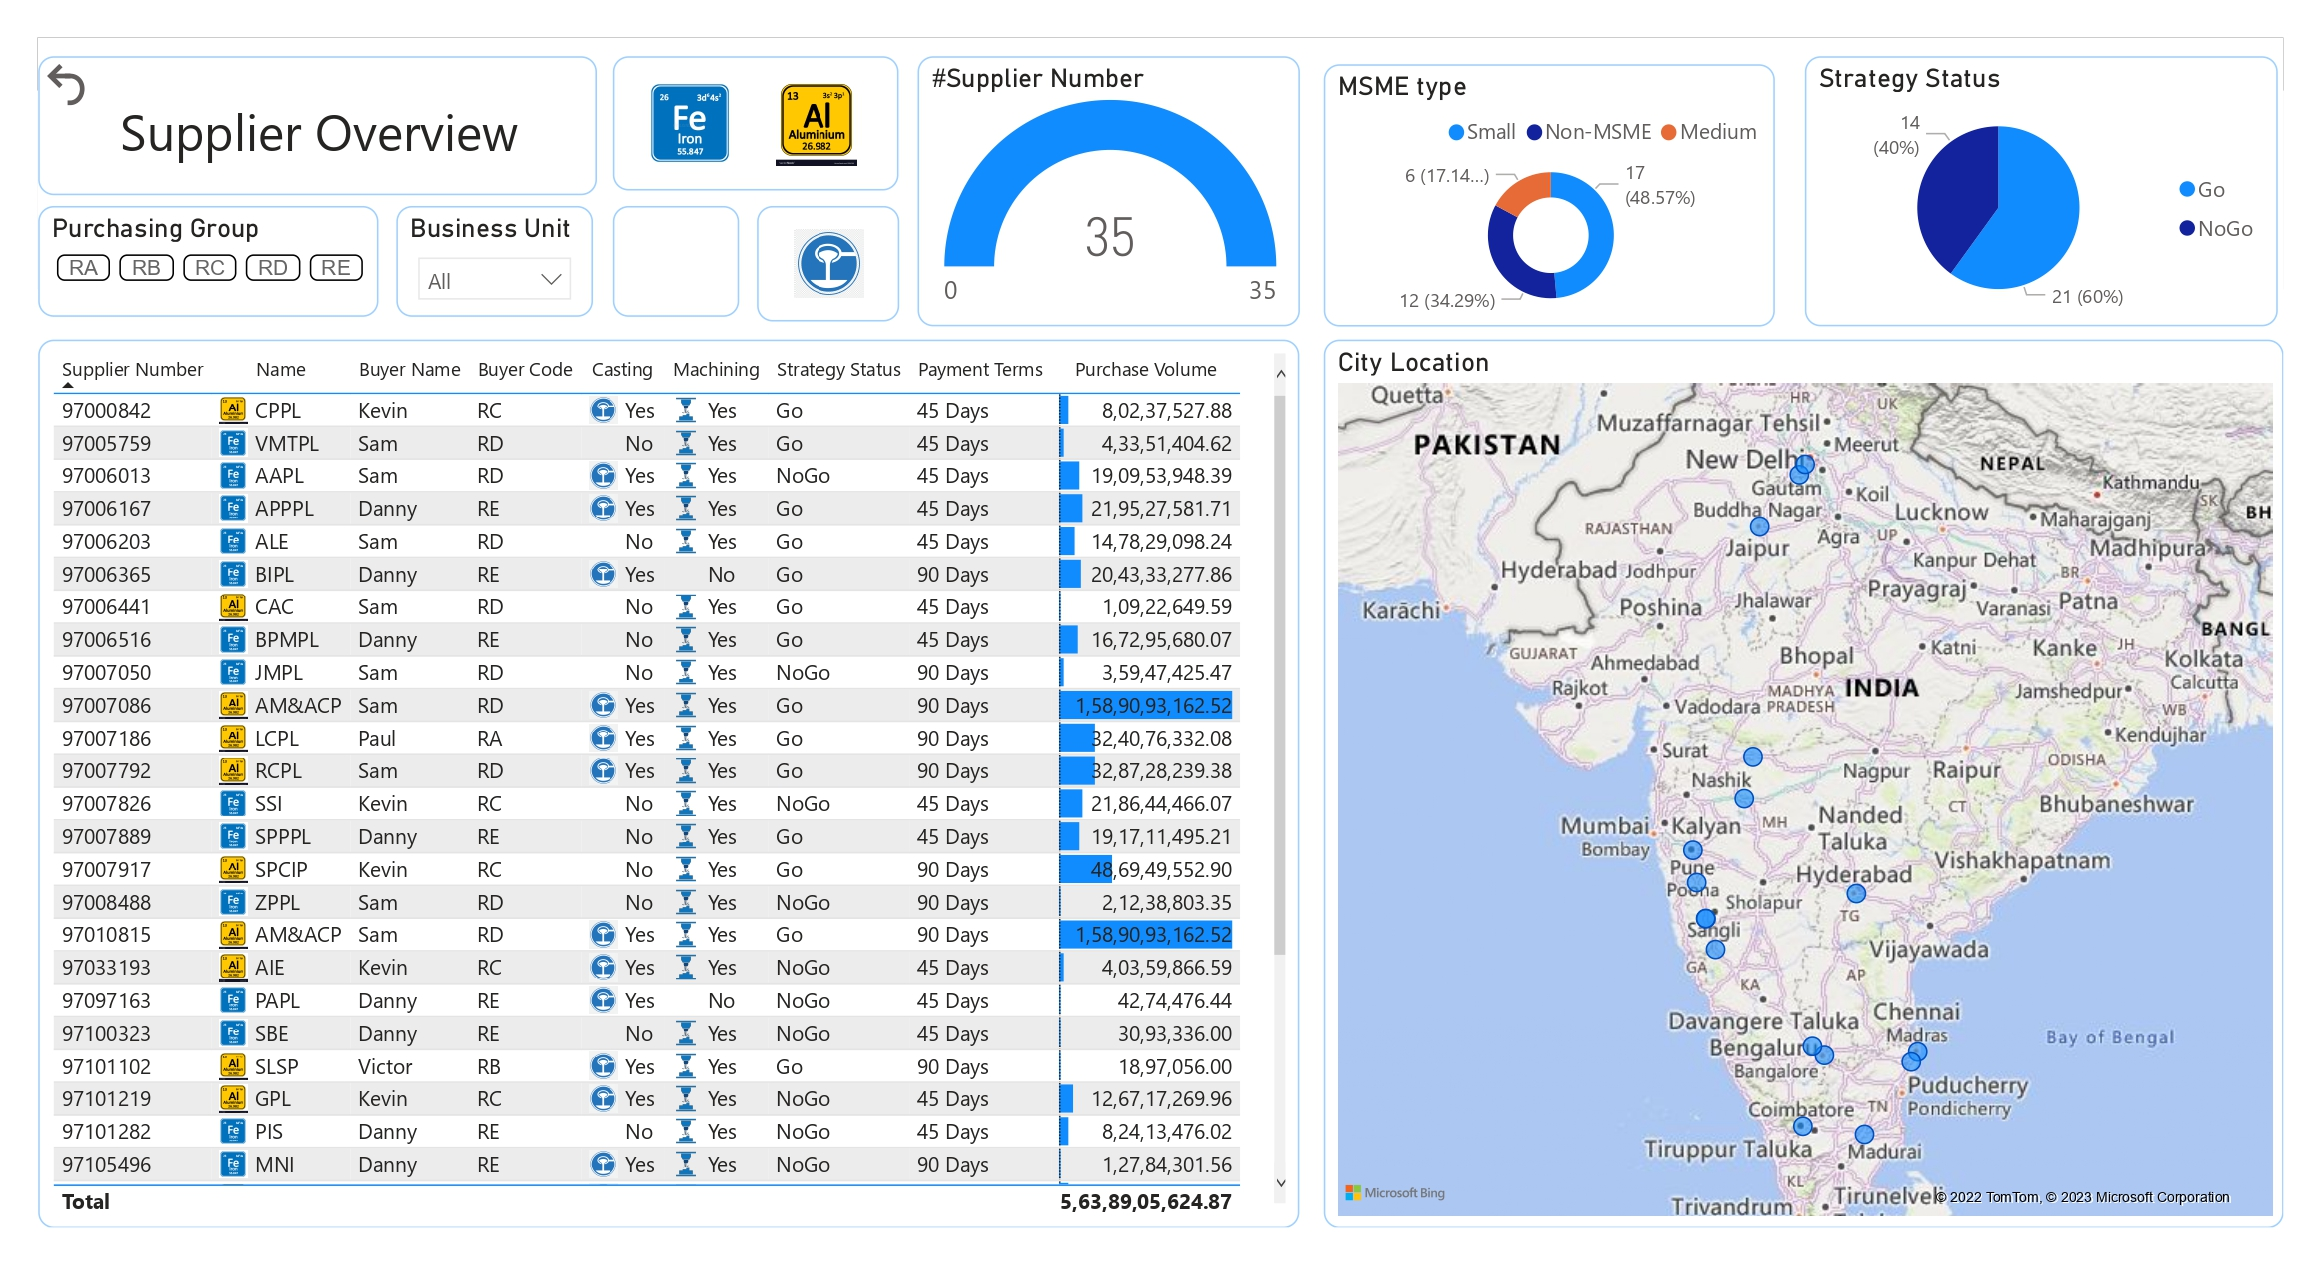

The dashboard page shown, as its layout file describes it:
{"tool":"powerbi","page":{"name":"Supplier Overview","canvas":[1343,720],"ordinal":0},"visuals":[{"type":"gauge","title":"#Supplier Number","fields":{"Y":["Supplier data.Supplier Number"]},"box":[563.1,11.3,234.6,171.5],"z":0},{"type":"donutChart","title":"MSME type","fields":{"Category":["Supplier data.MSME type"],"Y":["Supplier data.Supplier Number"]},"box":[809,11.3,247.6,168.3],"z":1000},{"type":"pieChart","title":"Strategy Status","fields":{"Category":["Supplier data.Strategy Status"],"Y":["Supplier data.Supplier Number"]},"box":[1064.6,11.3,278.3,171.5],"z":2000},{"type":"map","fields":{"Category":["Supplier data.City Location"]},"box":[809,194.2,533.9,524.2],"z":3000},{"type":"ChicletSlicer1448559807354","fields":{"Category":["Supplier data.Comodity"],"Image":["Supplier data.Comodity Logo"]},"box":[368.9,11.3,182.8,85.8],"z":4000},{"type":"ChicletSlicer1448559807354","fields":{"Category":["Supplier data.Casting"],"Image":["Supplier data.Casting Logo"]},"box":[461.1,108.4,90.6,74.4],"z":5000},{"type":"ChicletSlicer1448559807354","fields":{"Category":["Supplier data.Machining"],"Image":["Supplier data.Machining Logo"]},"box":[368.9,108.4,80.9,71.2],"z":6000},{"type":"tableEx","fields":{"Values":["Supplier data.Supplier Number","Supplier data.Name","Supplier data.Buyer Name","Supplier data.Buyer Code","Supplier data.Casting","Supplier data.Machining","Supplier data.Strategy Status","Supplier data.Payment Terms (Days)","Supplier data.Purchase Volume"]},"box":[0,194.2,797.7,524.2],"z":7000},{"type":"slicer","title":"Business Unit","fields":{"Values":["Master Report.BU"]},"box":[229.8,108.4,126.2,71.2],"z":8000},{"type":"ChicletSlicer1448559807354","title":"Purchasing Group","fields":{"Category":["Supplier data.Buyer Code"]},"box":[0,108.4,218.4,71.2],"z":9000},{"type":"textbox","box":[0,11.3,358,89],"z":10000},{"type":"actionButton","box":[0,11.3,51,36],"z":11000}]}

Visuals, with their boxes in screenshot pixels (x1, y1, x2, y2), scaled from the page's 1343x720 canvas onto the 2321x1265 screenshot:
"#Supplier Number" gauge: pyautogui.locateOnScreen(973, 20, 1379, 321)
"MSME type" donutChart: pyautogui.locateOnScreen(1398, 20, 1826, 316)
"Strategy Status" pieChart: pyautogui.locateOnScreen(1840, 20, 2320, 321)
map - Supplier data.City Location: pyautogui.locateOnScreen(1398, 341, 2320, 1262)
ChicletSlicer1448559807354 - Supplier data.Comodity x Supplier data.Comodity Logo: pyautogui.locateOnScreen(638, 20, 953, 171)
ChicletSlicer1448559807354 - Supplier data.Casting x Supplier data.Casting Logo: pyautogui.locateOnScreen(797, 190, 953, 321)
ChicletSlicer1448559807354 - Supplier data.Machining x Supplier data.Machining Logo: pyautogui.locateOnScreen(638, 190, 777, 316)
tableEx - Supplier data.Supplier Number x Supplier data.Name: pyautogui.locateOnScreen(0, 341, 1379, 1262)
"Business Unit" slicer: pyautogui.locateOnScreen(397, 190, 615, 316)
"Purchasing Group" ChicletSlicer1448559807354: pyautogui.locateOnScreen(0, 190, 377, 316)
textbox: pyautogui.locateOnScreen(0, 20, 619, 176)
actionButton: pyautogui.locateOnScreen(0, 20, 88, 83)
